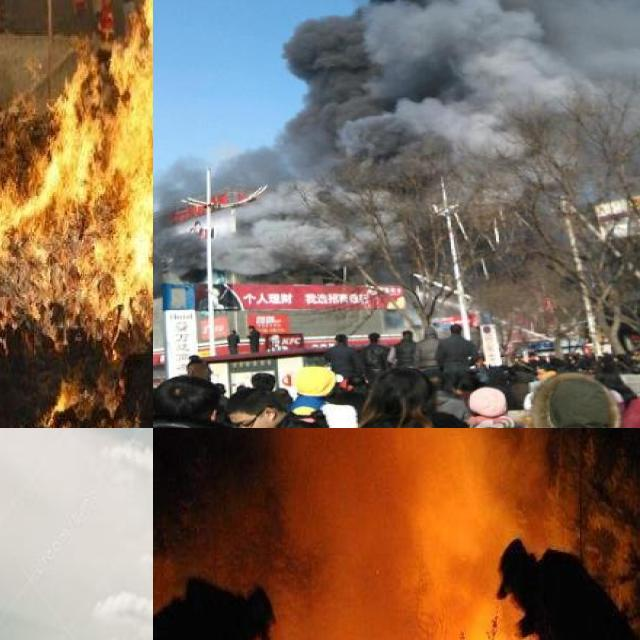fire: (0, 0, 153, 426)
smoke: (153, 0, 640, 268), (220, 428, 567, 640), (55, 428, 153, 640)
